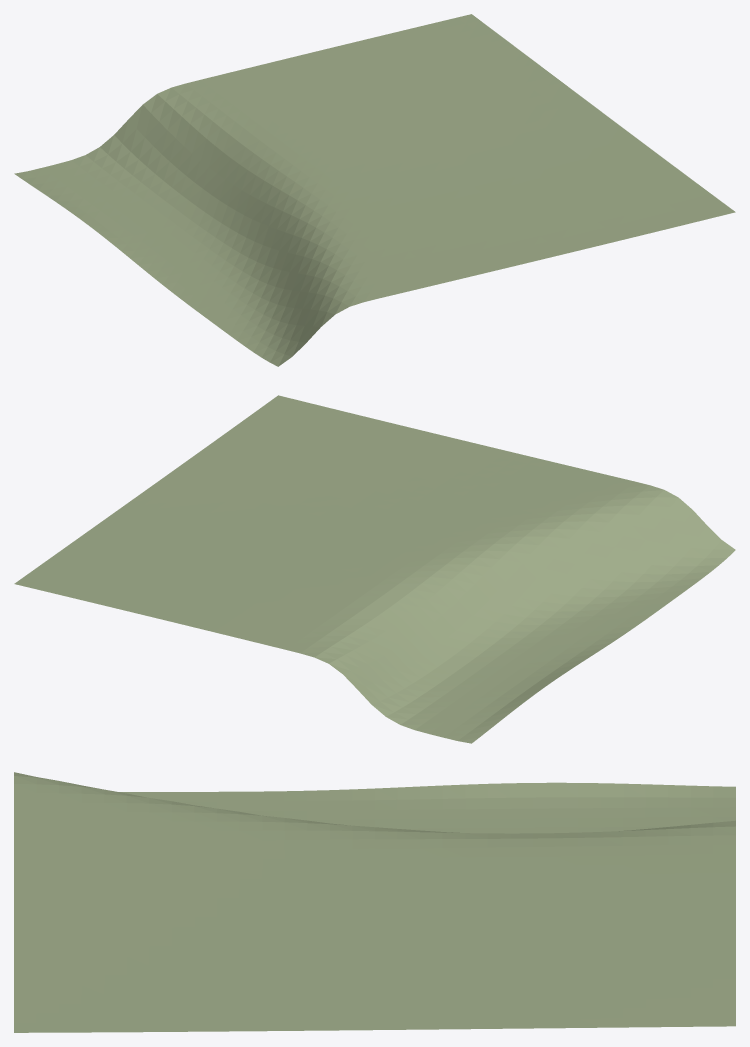
File: lunar-5-1.glb
3 views of the same model, one above another, from view 1: azimuth 30°, elevation 25°; view 2: azimuth 150°, elevation 25°; view 3: azimuth 270°, elevation 25° (orthographic). The views are drawn at different scales.
Parts seen in each view (by area): view 1: lunar-5-1; view 2: lunar-5-1; view 3: lunar-5-1.
Part boxes in pixels (x1,y1,x2,y2): lunar-5-1: [14, 14, 735, 366]; lunar-5-1: [14, 395, 735, 743]; lunar-5-1: [14, 772, 735, 1032].
Size of the model in its own units: 128 by 13.99 by 128.
